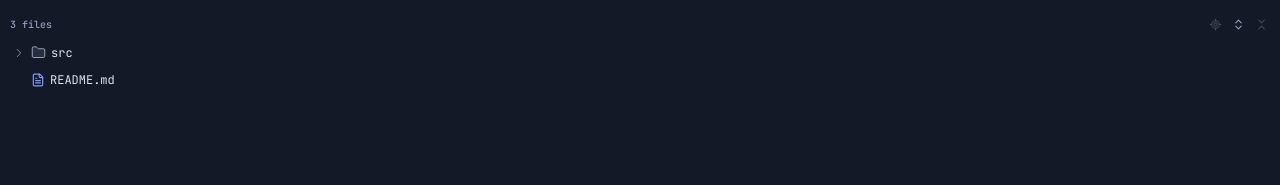
Scenario: ProjectTree › supports expanding all and collapsing all folders
Expected: the text "Tree.tsx" is not shown
What coordinates should you click on to do the following:
click the button named "Expand all folders"
I would click on:
 (1238, 24)
Its box is [1227,14,1250,35].
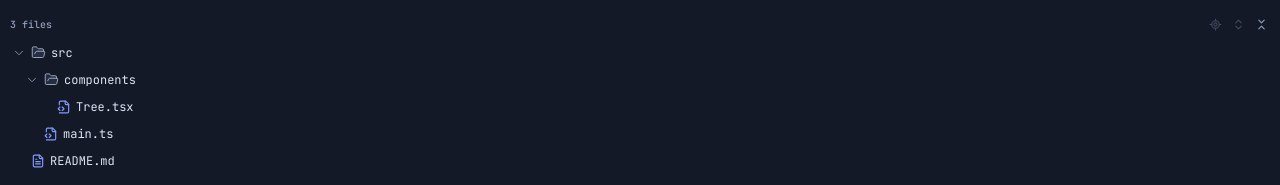
Now the text "Tree.tsx" is shown, box [76,98,134,114]
What coordinates should you click on to do the following:
click the button named "Collapse all folders"
I would click on:
 (1262, 24)
Its box is [1250,14,1273,35].
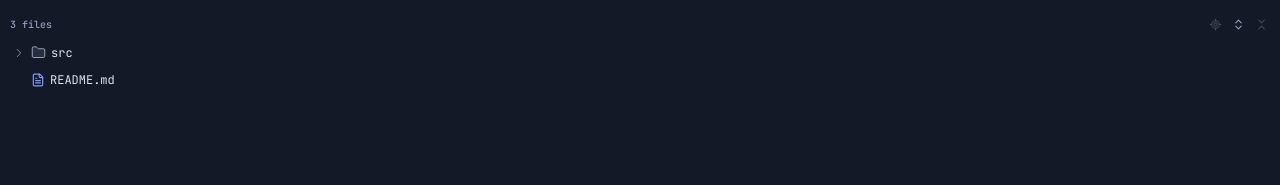
Now the list item "main.ts" is gone
